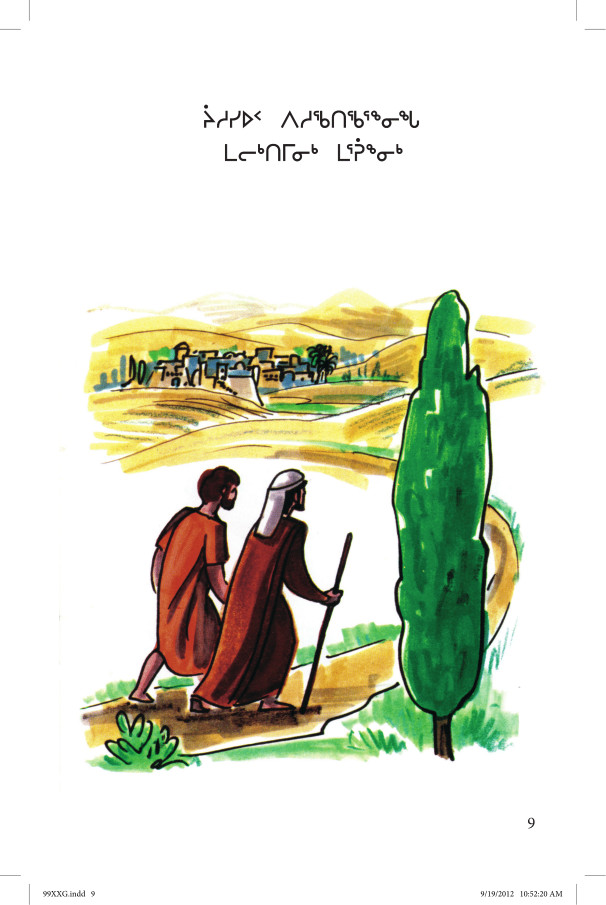inuktitut: (191, 91, 428, 175)
